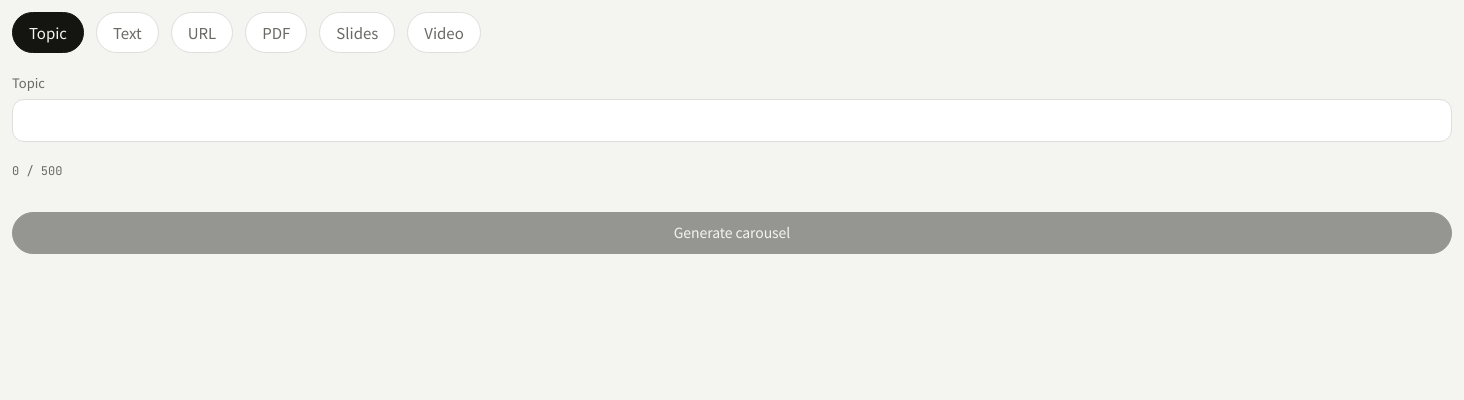
Scenario: SourceInput › offers all six sources and swaps the field for the selected one
The width and height of the screenshot is (1464, 400).
Check: the tab "Topic" is shown, box 12,12 -> 84,53
Check: the tab "Text" is shown, box 96,12 -> 159,53
Click the tab "URL" at (202, 33), box 171,12 -> 233,53
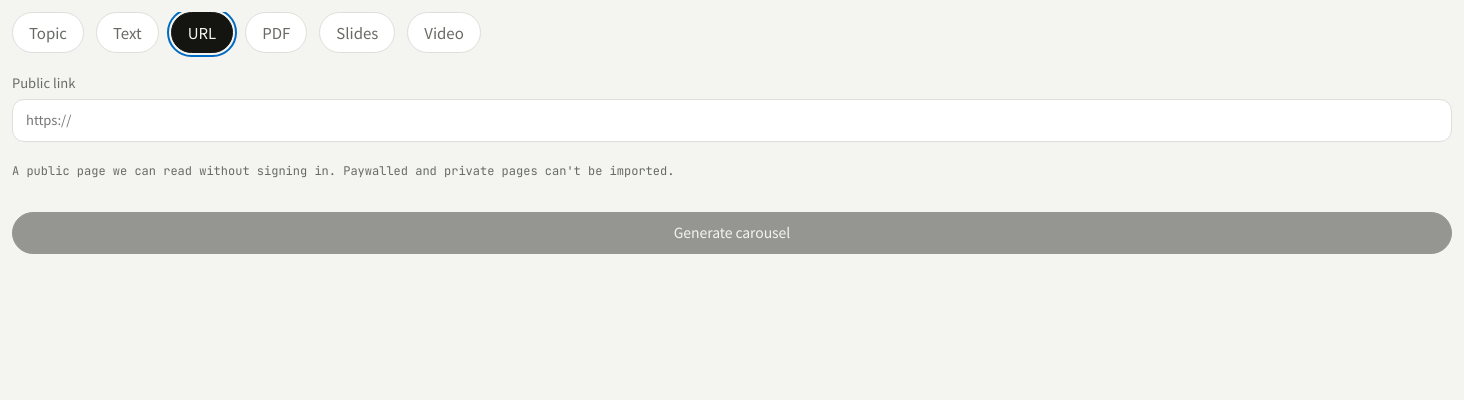
Check: the field labelled "Public link" has attribute type="url", box 12,99 -> 1452,142
Click the tab "Video" at (444, 33), box 407,12 -> 481,53
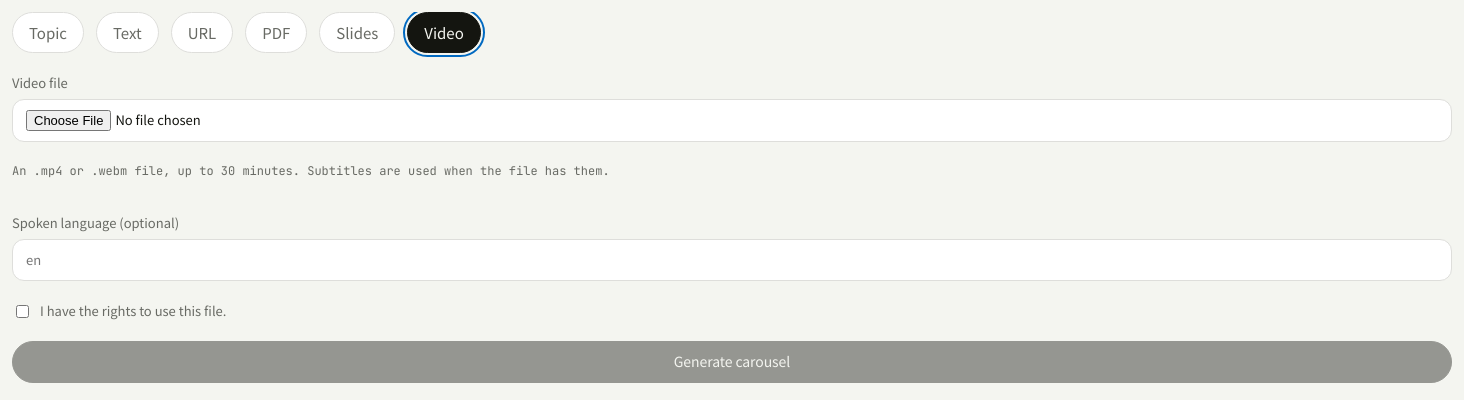
Check: the field labelled "Spoken language (optional)" is shown, box 12,239 -> 1452,281
Click the tab "Slides" at (357, 33), box 319,12 -> 395,53
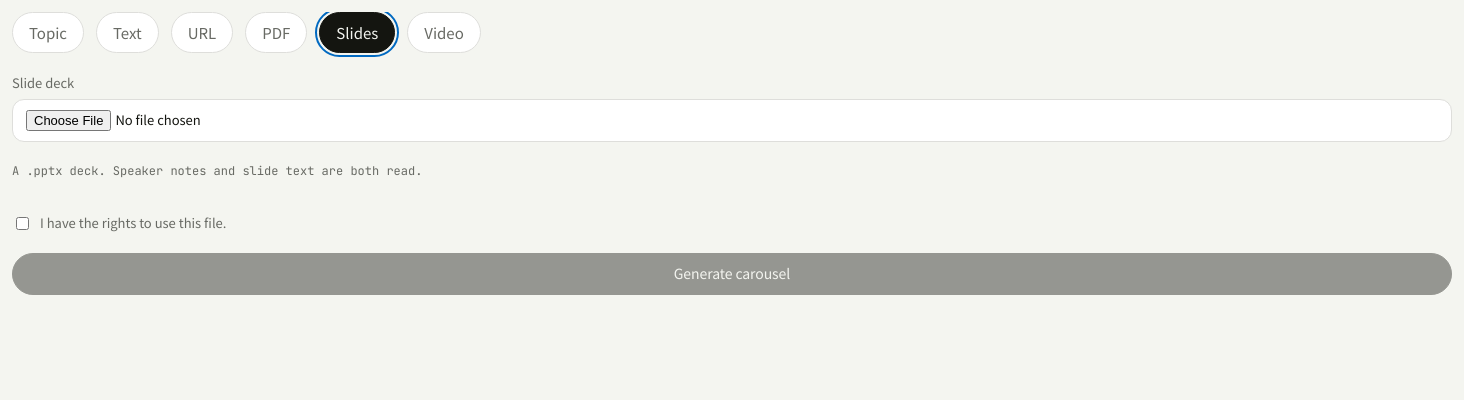
Check: the label labelled "Spoken language (optional)" is gone
